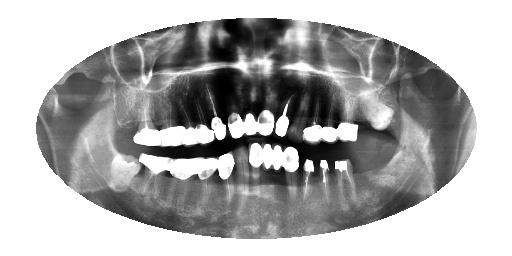i10decay: (231, 145, 251, 204)
i11healthy: (216, 151, 236, 204)
i12healthy: (199, 154, 217, 213)
i13healthy: (169, 156, 202, 215)
i14healthy: (137, 151, 175, 204)
i15healthy: (108, 149, 144, 201)
i16loss: (93, 149, 119, 171)
i1loss: (375, 159, 405, 187)
i2loss: (353, 164, 381, 196)
i3healthy: (330, 156, 361, 210)
i4healthy: (318, 157, 334, 206)
i5healthy: (299, 155, 317, 205)
i6healthy: (283, 145, 301, 200)
i7healthy: (272, 144, 284, 198)
i8healthy: (263, 143, 273, 203)
i9healthy: (247, 141, 265, 202)
u10healthy: (205, 83, 226, 141)
u11healthy: (194, 83, 213, 147)
u12healthy: (183, 83, 196, 147)
u13healthy: (154, 86, 183, 148)
u14healthy: (132, 99, 159, 149)
u15loss: (122, 112, 139, 143)
u16loss: (99, 104, 111, 137)
u1healthy: (359, 92, 397, 132)
u2healthy: (336, 91, 361, 145)
u3healthy: (319, 89, 340, 144)
u4healthy: (302, 86, 322, 145)
u5decay: (285, 88, 313, 141)
u6healthy: (275, 85, 288, 139)
u7healthy: (254, 86, 276, 139)
u8healthy: (240, 82, 259, 138)
u9healthy: (227, 76, 245, 143)
